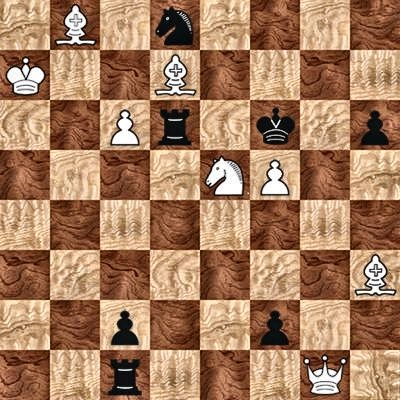black-king: (250, 100, 300, 150)
black-knight: (150, 0, 200, 50)
black-pawn: (350, 100, 400, 150), (100, 300, 150, 350), (250, 300, 300, 350)
black-rook: (150, 100, 200, 150), (100, 350, 150, 400)
white-bishop: (50, 0, 100, 50), (150, 50, 200, 100), (350, 250, 400, 300)
white-king: (0, 50, 50, 100)
white-knight: (200, 150, 250, 200)
white-pawn: (100, 100, 150, 150), (250, 150, 300, 200)
white-queen: (300, 350, 350, 400)
